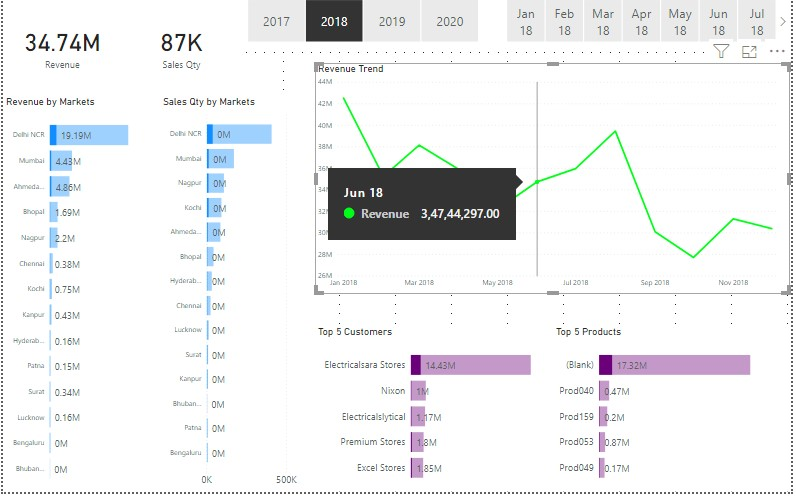

This screenshot's page, from the dashboard's own definition file:
{"tool":"powerbi","page":{"name":"Page 1","canvas":[1350,850],"ordinal":0},"visuals":[{"type":"card","fields":{"Values":["BaseMeasure.Revenue"]},"box":[0,0,204.4,170.7],"z":0},{"type":"card","fields":{"Values":["BaseMeasure.Sales Qty"]},"box":[204.4,0,204.4,170.7],"z":1},{"type":"barChart","title":"Revenue by Markets","fields":{"Y":["BaseMeasure.Revenue"],"Category":["sales markets.markets_name"]},"box":[0,170.7,268.4,679.1],"z":2},{"type":"barChart","title":"Sales Qty by Markets","fields":{"Y":["BaseMeasure.Sales Qty"],"Category":["sales markets.markets_name"]},"box":[268.4,170.7,266.7,679.1],"z":3},{"type":"slicer","fields":{"Values":["sales date.year"]},"box":[394.7,0,444.4,85.3],"z":4},{"type":"slicer","fields":{"Values":["sales date.cy_date"]},"box":[839.1,0,510.2,85.3],"z":5},{"type":"barChart","title":"Top 5 Customers","fields":{"Y":["BaseMeasure.Revenue"],"Category":["sales customers.custmer_name"]},"box":[535.1,565.3,407.1,284.4],"z":6},{"type":"barChart","title":"Top 5 Products","fields":{"Y":["BaseMeasure.Revenue"],"Category":["sales products.product_code"]},"box":[942.2,565.3,407.1,284.4],"z":7},{"type":"lineChart","title":"Revenue Trend","fields":{"Y":["BaseMeasure.Revenue"],"Category":["sales date.cy_date"]},"box":[535.1,115.6,814.2,394.7],"z":8}]}

Visuals, with their boxes in screenshot pixels (x1, y1, x2, y2), scaled from the page's 1350x850 canvas onto the 796x498 screenshot:
card - BaseMeasure.Revenue: [0, 0, 121, 100]
card - BaseMeasure.Sales Qty: [121, 0, 241, 100]
"Revenue by Markets" barChart: [0, 100, 158, 497]
"Sales Qty by Markets" barChart: [158, 100, 316, 497]
slicer - sales date.year: [233, 0, 495, 50]
slicer - sales date.cy_date: [495, 0, 795, 50]
"Top 5 Customers" barChart: [316, 331, 556, 497]
"Top 5 Products" barChart: [556, 331, 795, 497]
"Revenue Trend" lineChart: [316, 68, 795, 299]
